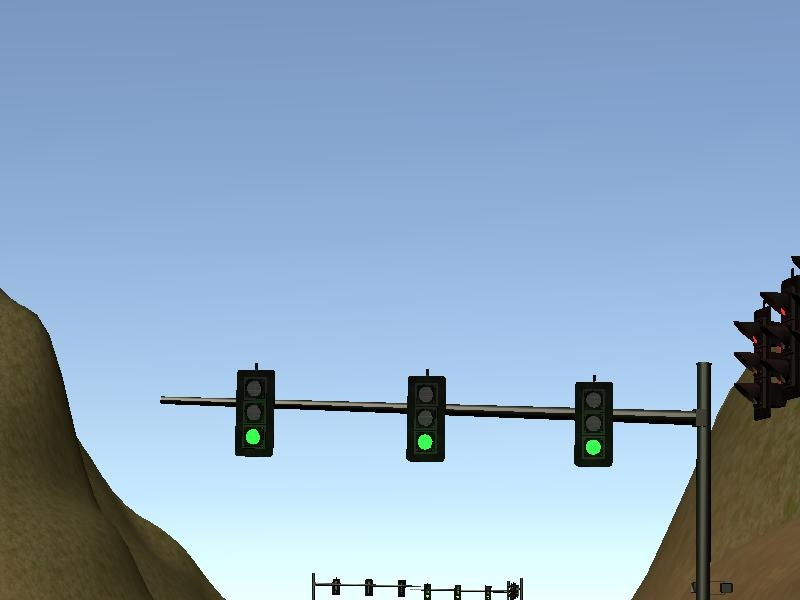traffic_light_green: (203, 358, 697, 471)
